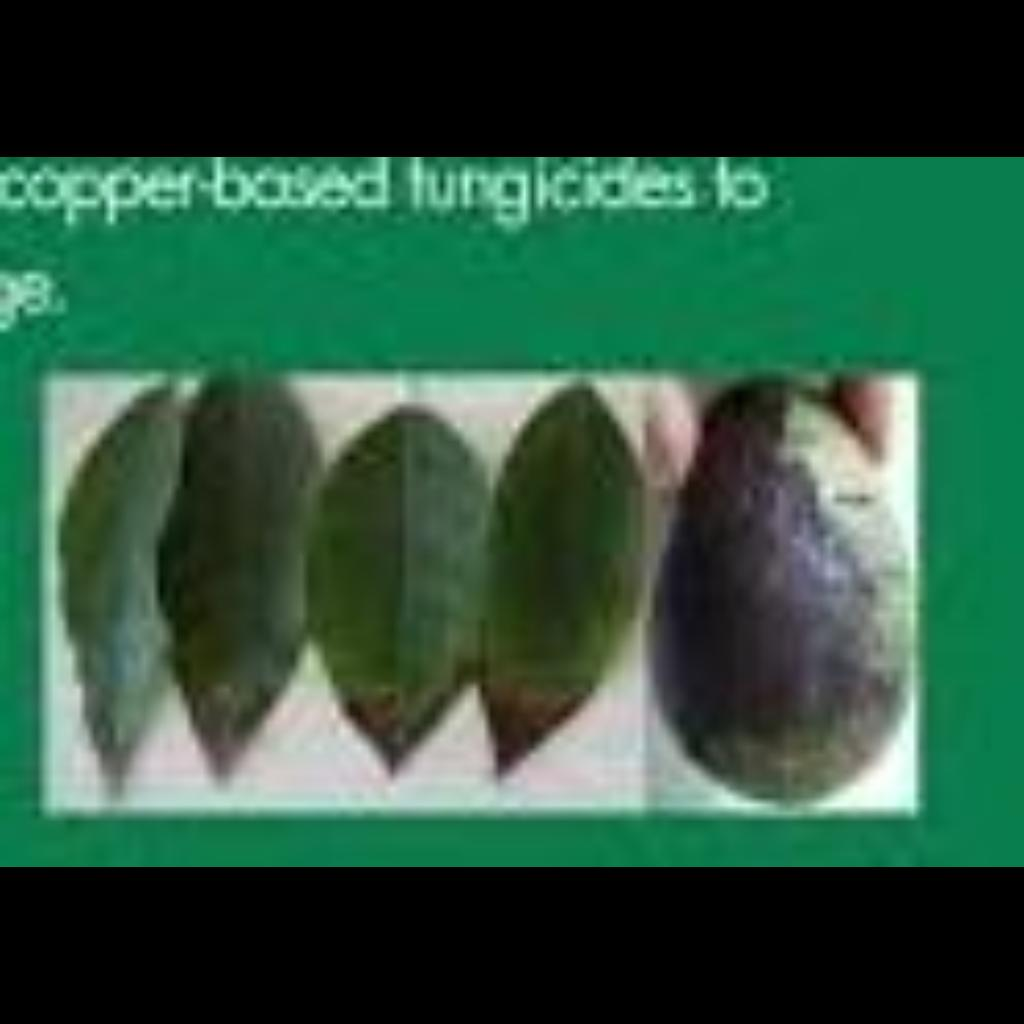Anthracnose: (694, 388, 908, 760)
